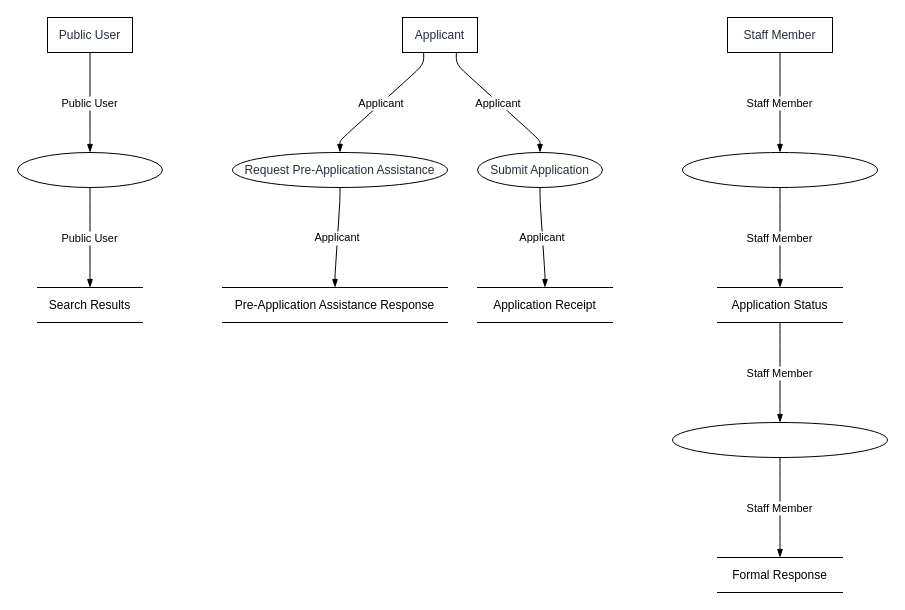
Image size: 905x610. Some labels were removed from this diagram. The shapes that lost their labels are listed below. From the top down, each one's centre as x and y in pixels, then its label:
At point 89,170: "Search for Information".
At point 780,170: "Perform Completeness Review".
At point 780,440: "Send Formal Response to Applicant".
